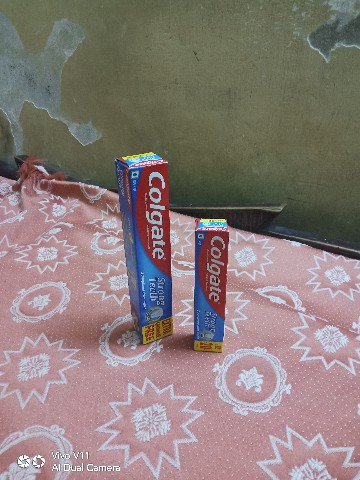colgatetoothpaste big: (104, 144, 186, 359)
colgatetoothpaste small: (186, 208, 239, 363)
